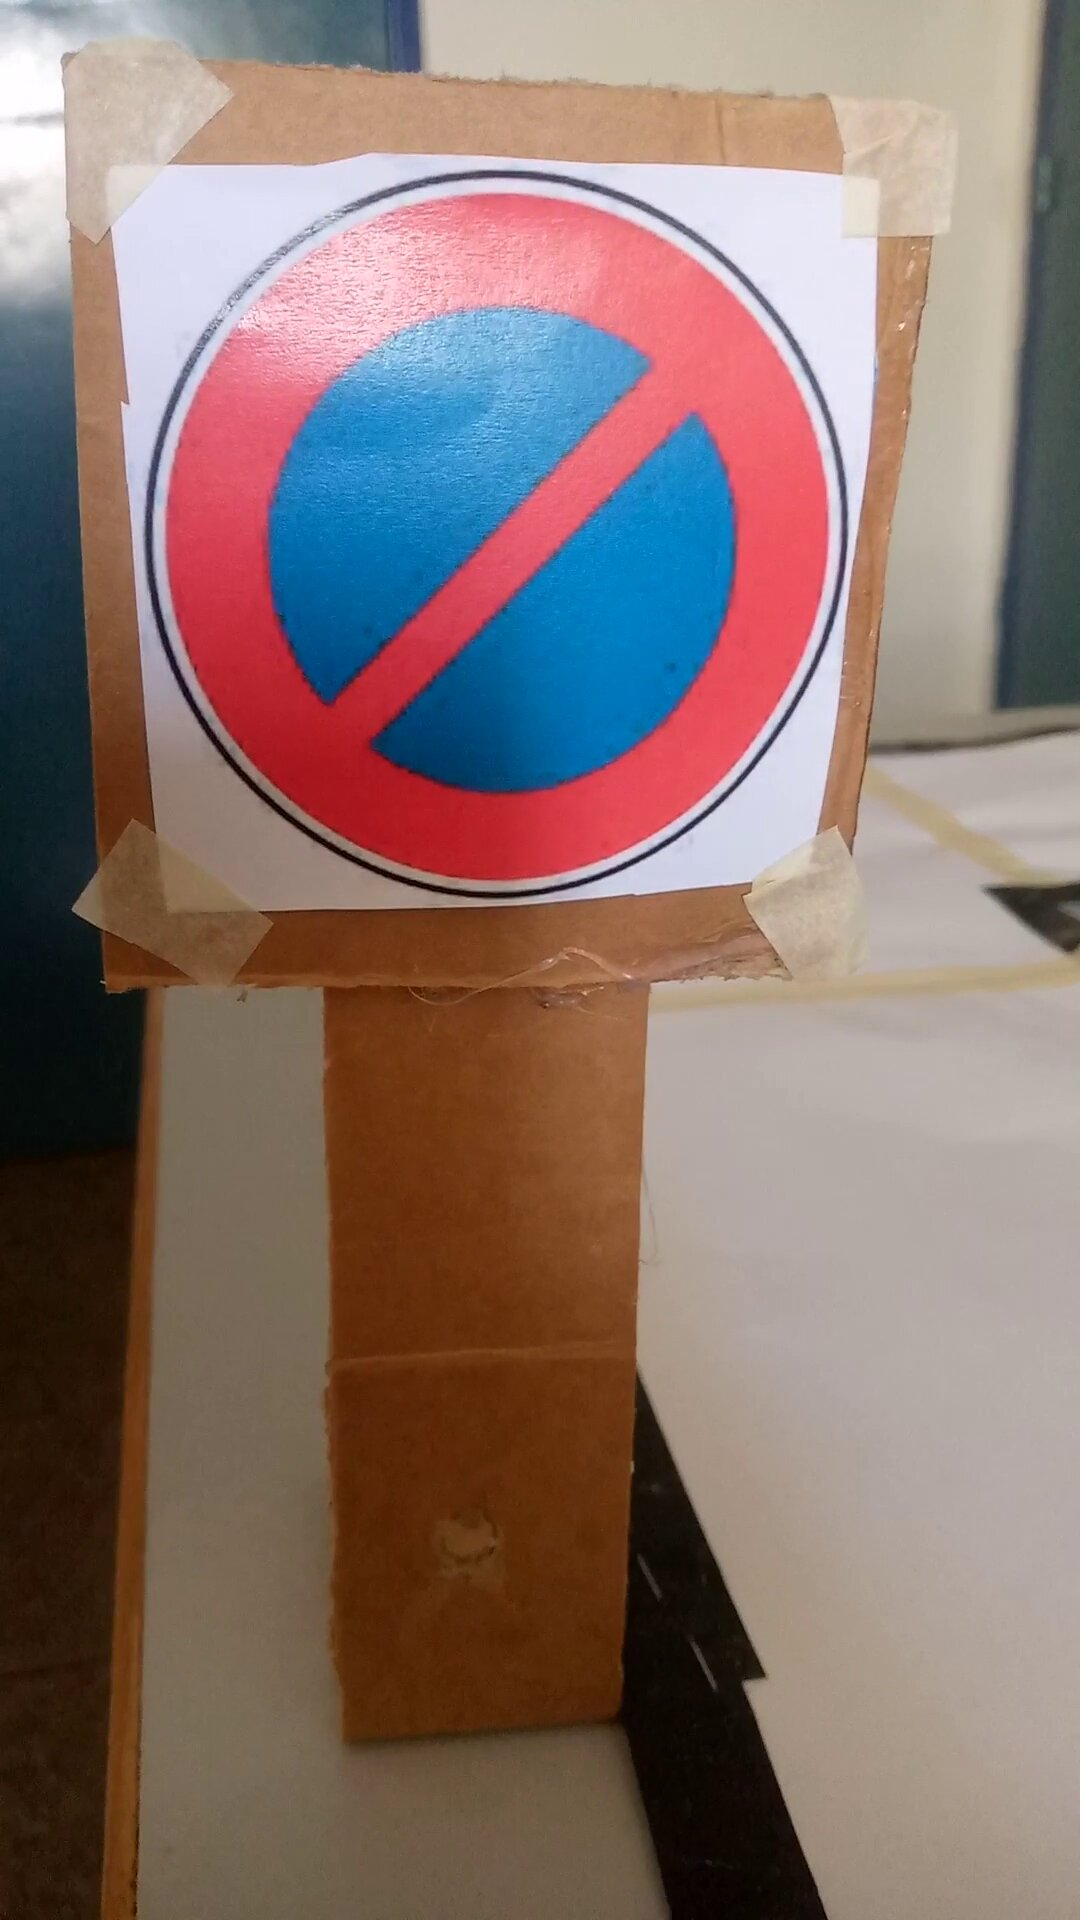panel110: (104, 140, 861, 926)
